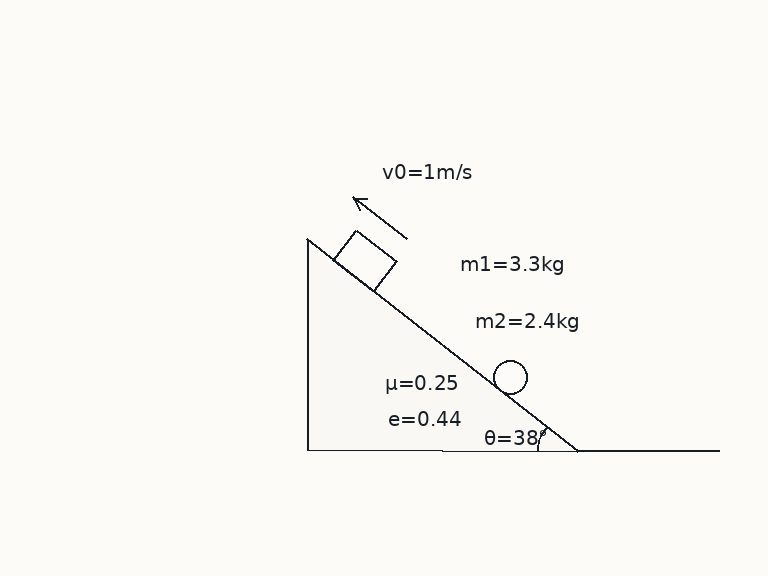ball: (491, 358, 529, 396)
block: (331, 228, 398, 293)
ramp: (305, 237, 580, 453)
